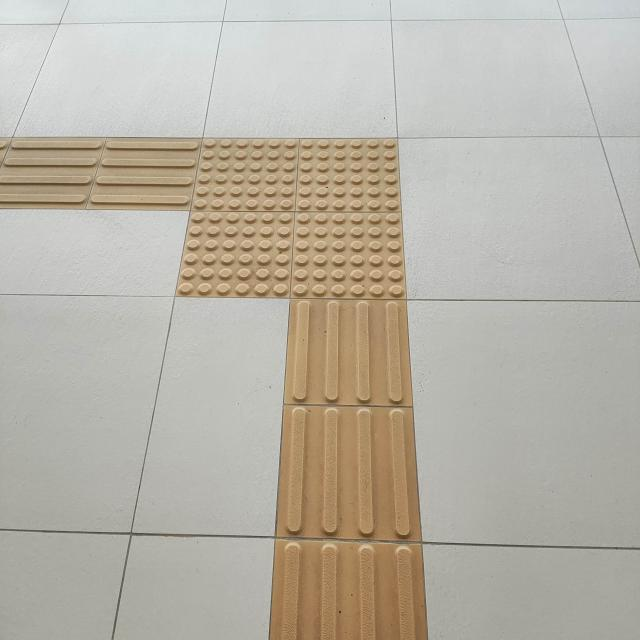kiri: (2, 70, 493, 393)
